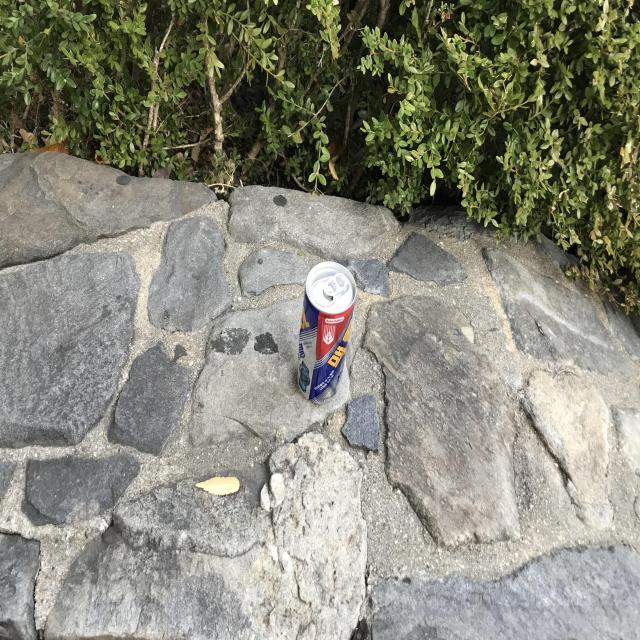can: (298, 261, 357, 403)
